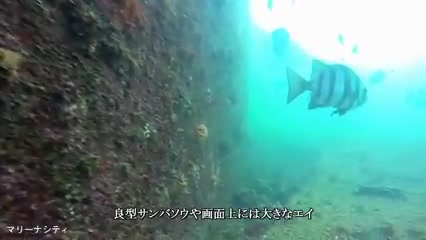ishidai: (279, 61, 374, 113)
